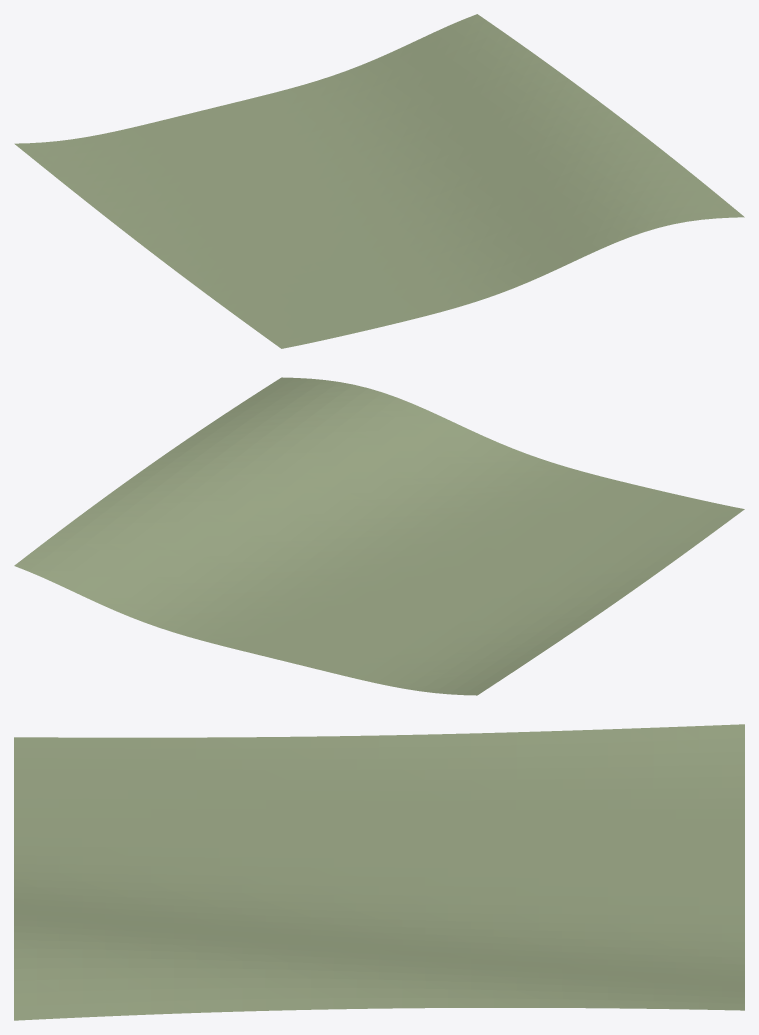
Rendered from desert-8-5.glb.
The picture shows the model from 3 angles, top to bottom: view 1: azimuth 30°, elevation 25°; view 2: azimuth 150°, elevation 25°; view 3: azimuth 270°, elevation 25°; orthographic projection. The views are drawn at different scales.
Parts seen in each view (by area): view 1: desert-8-5; view 2: desert-8-5; view 3: desert-8-5.
Part boxes in pixels (x1,y1,x2,y2): desert-8-5: [14, 14, 744, 348]; desert-8-5: [14, 377, 744, 695]; desert-8-5: [14, 724, 744, 1020].
Size of the model in its own units: 512 by 34.8 by 512.
